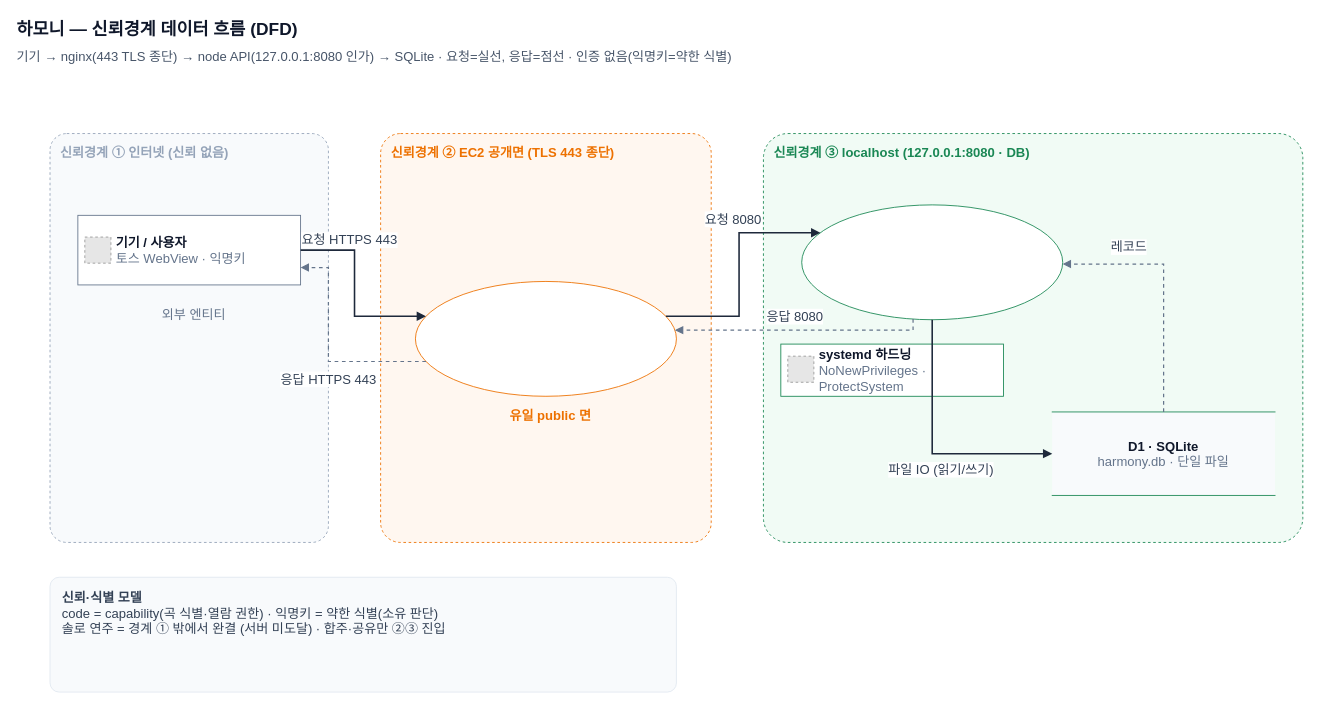
This 1318x707 diagram has some shape labels left out. Grey dashed boxes stand in for pictures. The centre of each missing label's shape, as x and y in pixels:
P1 · nginx 443 TLS 종단 · 리버스프록시: point (545, 338)
P2 · node API 127.0.0.1:8080 · 인가 · IDOR 차단: point (932, 262)
